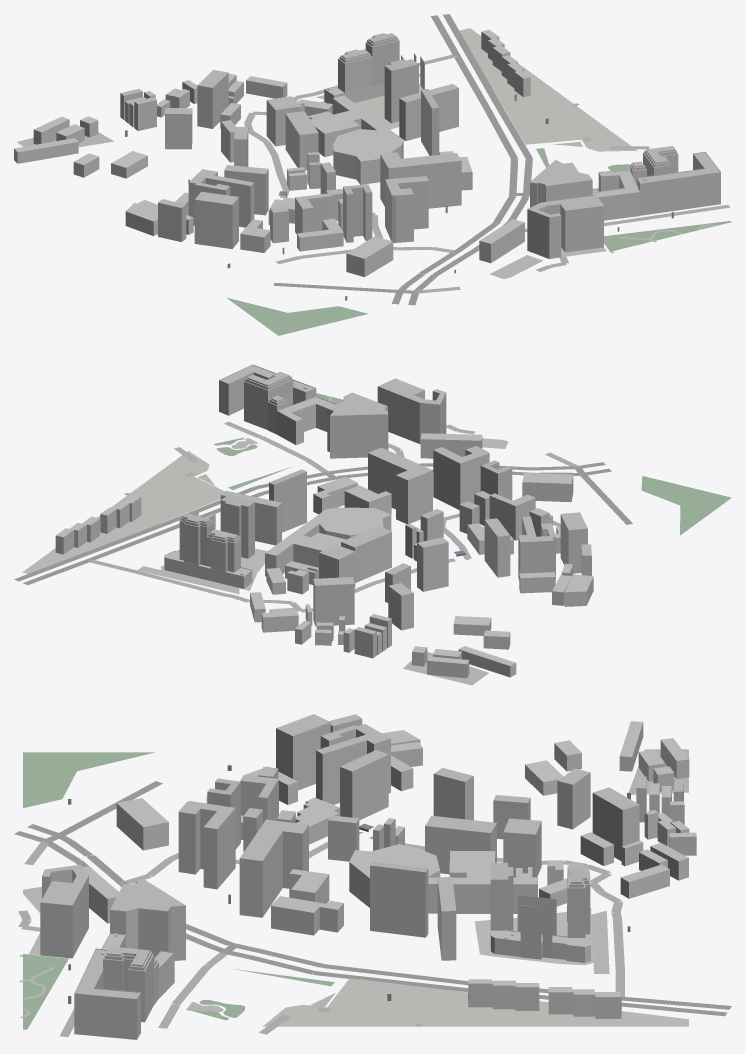
3 views of the same model, one above another, from view 1: azimuth 30°, elevation 25°; view 2: azimuth 150°, elevation 25°; view 3: azimuth 270°, elevation 25° (orthographic). The views are drawn at different scales.
Size of the model in its own units: 544 by 63.78 by 539.
